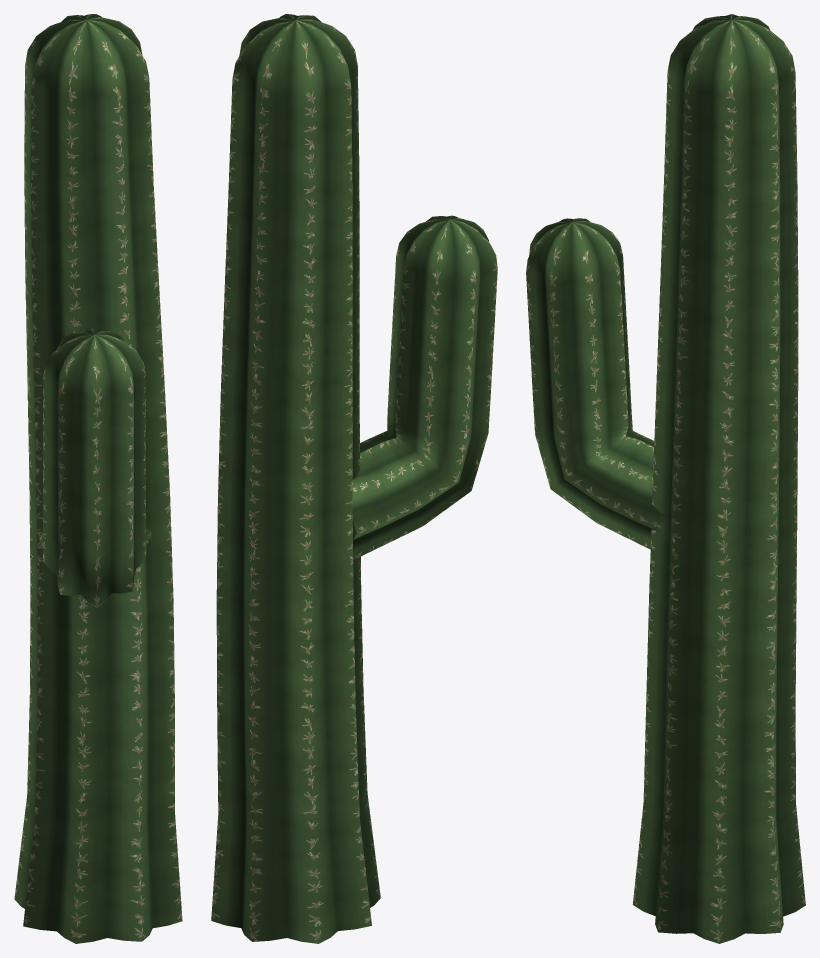
File: cactus_tall.glb
The picture shows the model from 3 angles, left to right: view 1: azimuth 30°, elevation 25°; view 2: azimuth 150°, elevation 25°; view 3: azimuth 270°, elevation 25°; orthographic projection.
Parts seen in each view (by area): view 1: prop; view 2: prop; view 3: prop.
Boxes of the visible parts, x1,y1,x2,y2 form: prop: (14, 14, 182, 943); prop: (211, 14, 497, 943); prop: (526, 14, 805, 943).
Size of the model in its own units: 0.3654 by 1.6 by 0.458.
Materials: 1 (1 with a texture image).
